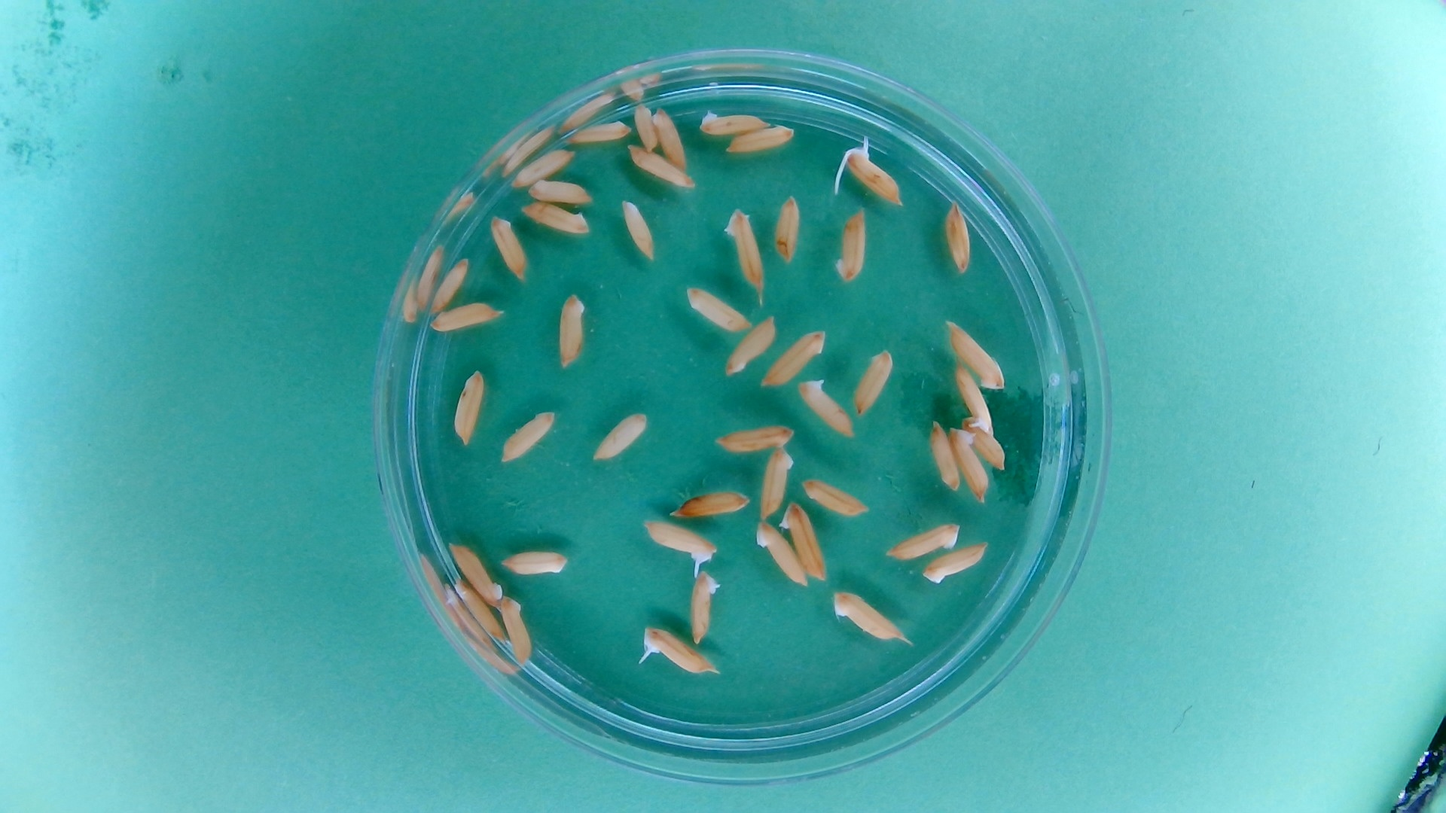no: (944, 319, 1007, 391), (758, 327, 826, 389), (830, 587, 905, 642), (779, 499, 827, 583), (447, 539, 504, 607), (753, 519, 808, 588), (452, 574, 506, 644), (722, 206, 766, 291), (722, 314, 779, 378), (497, 407, 557, 464), (624, 142, 694, 190), (590, 409, 651, 462), (685, 285, 752, 333), (949, 426, 990, 501), (486, 212, 529, 282), (831, 206, 869, 284), (885, 521, 959, 561), (451, 367, 488, 447), (920, 542, 990, 584), (853, 348, 895, 417), (800, 476, 869, 517), (670, 486, 752, 520), (508, 146, 576, 187), (758, 446, 796, 519), (426, 252, 471, 313), (713, 422, 795, 455), (520, 199, 592, 236), (554, 291, 588, 369), (926, 419, 962, 492), (941, 199, 975, 276), (428, 300, 505, 334), (962, 416, 1009, 471), (688, 568, 721, 645), (618, 196, 657, 261), (650, 104, 688, 170), (499, 595, 534, 666), (725, 123, 798, 155), (771, 193, 804, 263), (696, 106, 767, 136), (499, 547, 570, 577), (525, 175, 595, 205), (561, 118, 633, 147), (632, 101, 657, 152)
yes: (840, 142, 903, 207), (639, 626, 715, 676), (642, 518, 718, 563), (952, 363, 994, 434)
